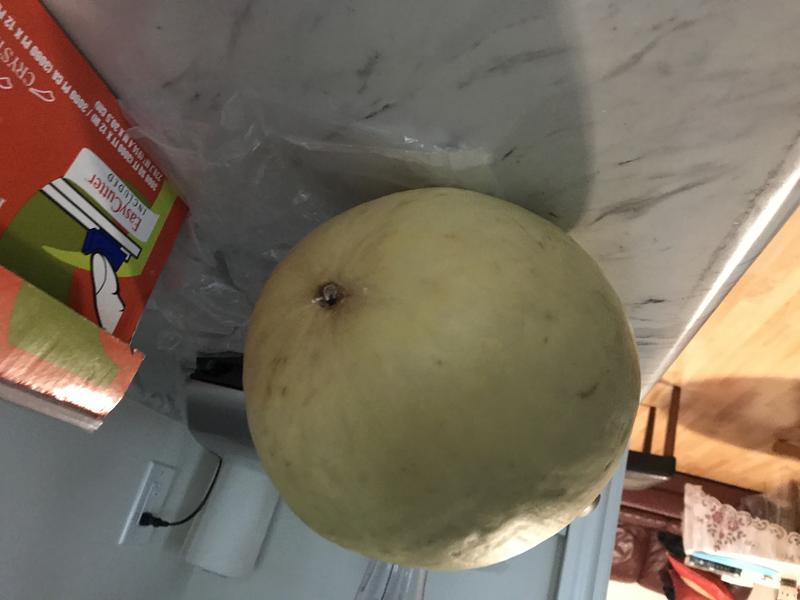honeydew: (231, 171, 653, 573)
